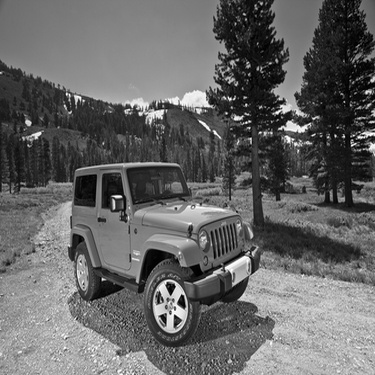car: (63, 155, 268, 344)
